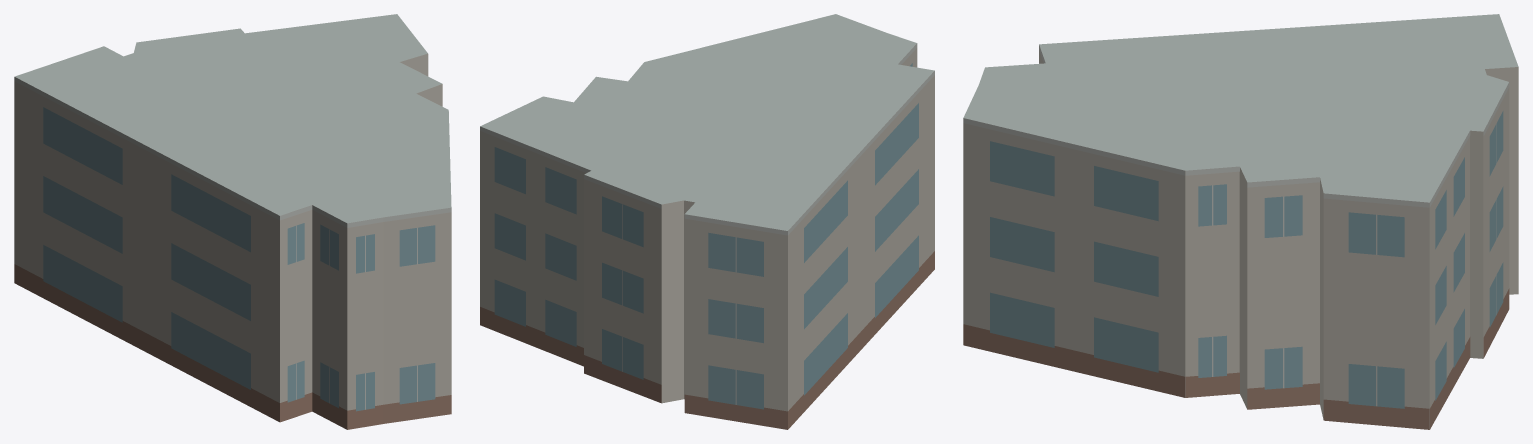
File: survey-upis-32492710.glb
3 views of the same model, side by side, from view 1: azimuth 30°, elevation 25°; view 2: azimuth 150°, elevation 25°; view 3: azimuth 270°, elevation 25° (orthographic). The views are drawn at different scales.
Visible parts, largest first — view 1: survey-upis-32492710.tmp; view 2: survey-upis-32492710.tmp; view 3: survey-upis-32492710.tmp.
Part boxes in pixels (x1,y1,x2,y2): survey-upis-32492710.tmp: [14, 14, 451, 429]; survey-upis-32492710.tmp: [480, 14, 934, 429]; survey-upis-32492710.tmp: [963, 14, 1518, 429].
Bounding box in the file's own units: 19.41 × 10.9 × 24.15.
